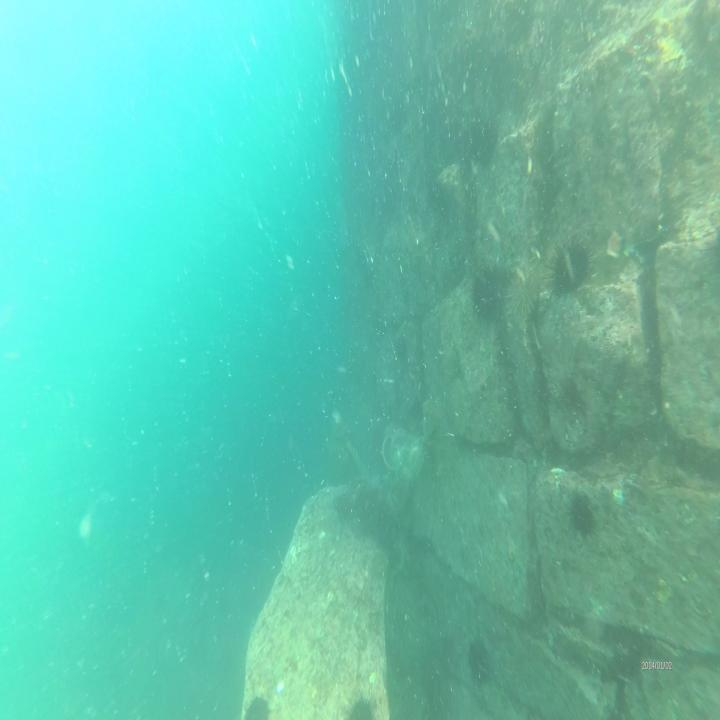echinus: (551, 368, 588, 437), (507, 262, 534, 324), (555, 236, 585, 289), (566, 495, 596, 542), (465, 632, 491, 684), (470, 278, 496, 326), (344, 689, 375, 720), (244, 693, 272, 719)
